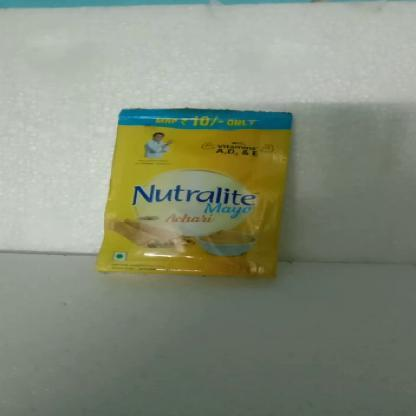Nutralite ACHARI MAYO 30g: (115, 110, 283, 276)
